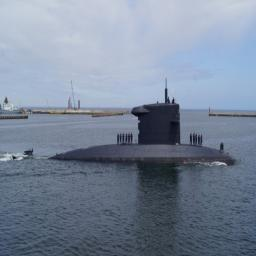submarine: (14, 77, 242, 162)
